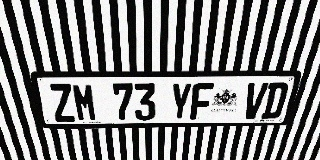3: (134, 83, 155, 121)
7: (111, 83, 134, 121)
D: (260, 82, 290, 119)
F: (190, 83, 214, 120)
M: (71, 83, 98, 121)
V: (241, 82, 269, 119)
Y: (169, 83, 192, 120)
Z: (48, 83, 77, 122)
